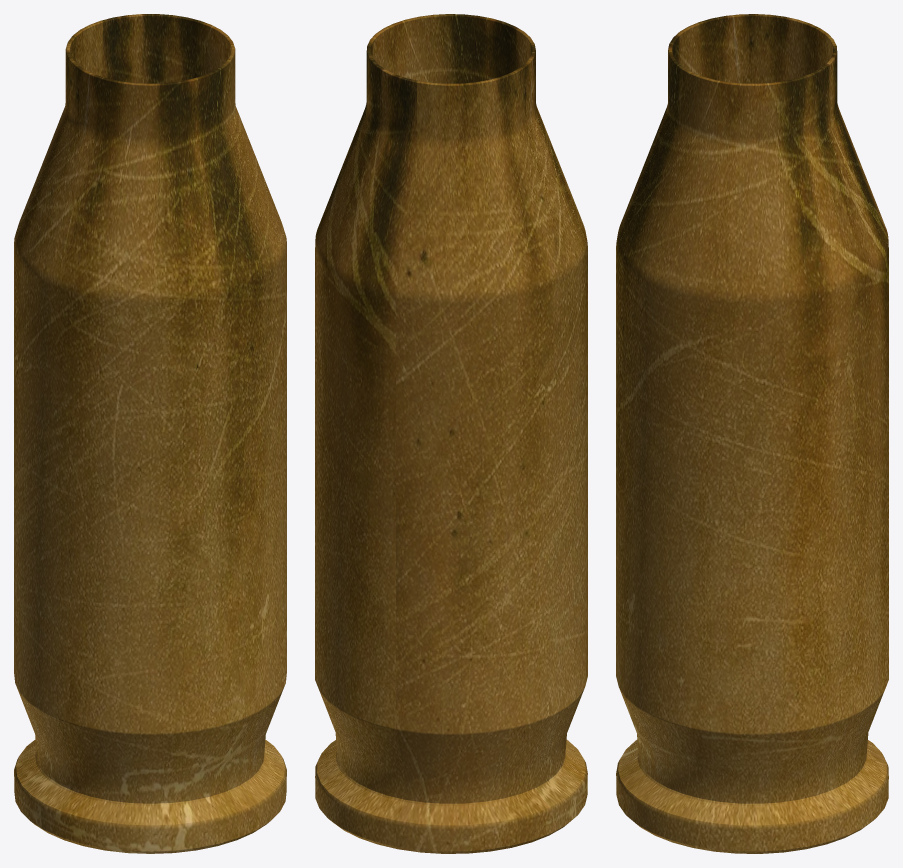
Rendered from bullet-case.glb.
3 views of the same model, side by side, from view 1: azimuth 30°, elevation 25°; view 2: azimuth 150°, elevation 25°; view 3: azimuth 270°, elevation 25° (orthographic).
Parts seen in each view (by area): view 1: pCylinder3; view 2: pCylinder3; view 3: pCylinder3.
Boxes of the visible parts, x1,y1,x2,y2 form: pCylinder3: (14,14,286,853); pCylinder3: (315,14,587,853); pCylinder3: (616,14,888,853).
Size of the model in its own units: 50.67 by 153 by 50.65.
1 material, 1 textured.
